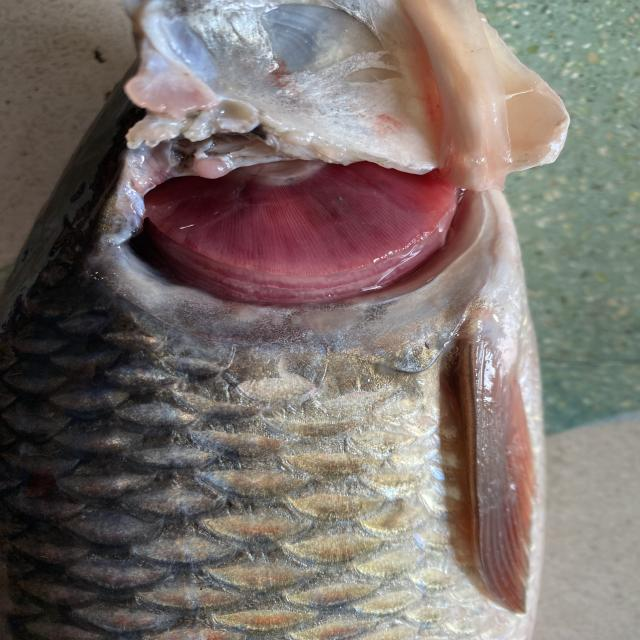Fresh: (123, 116, 494, 326)
